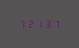one: (34, 20, 41, 28)
seven: (18, 20, 25, 28), (50, 20, 57, 28)
three: (42, 20, 49, 28)
two: (26, 20, 33, 28)
